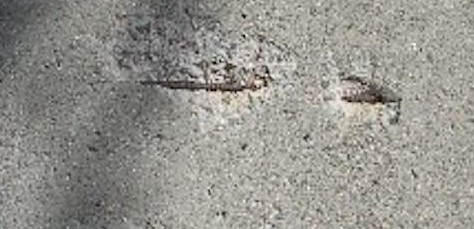Exposed reinforcement: (139, 79, 246, 92), (340, 92, 391, 104)
Spalling: (103, 14, 297, 115), (338, 73, 403, 116)
